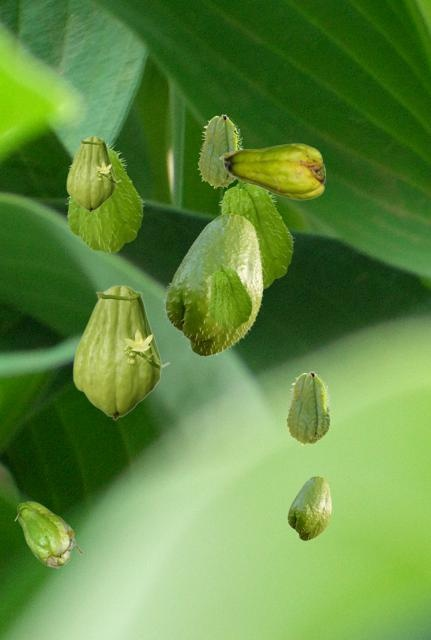sayote: (162, 213, 263, 357), (72, 285, 169, 419), (65, 137, 144, 252), (218, 181, 294, 288), (219, 143, 324, 199), (14, 501, 80, 567), (66, 136, 120, 211), (197, 114, 243, 188), (285, 371, 331, 445), (207, 263, 252, 328), (286, 476, 331, 540)
